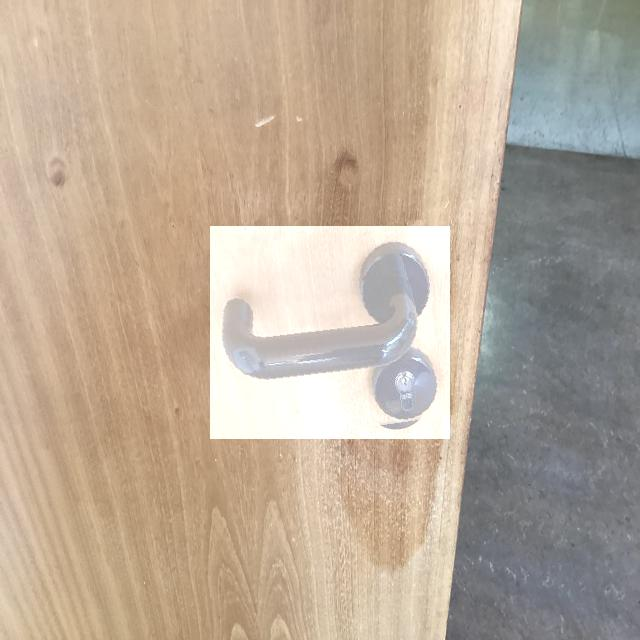doorhandle: (210, 226, 450, 439)
